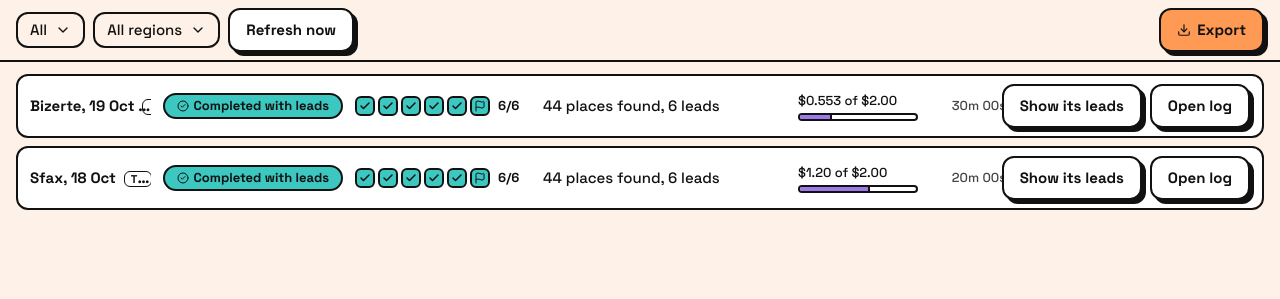
Test: Logs export mode › selects all the runs the filters show, then clears them
expect the text "Bizerte, 19 Oct" is shown: met, box [30,96,134,115]
Click the button "Export": (1212, 30) [1159,8,1264,52]
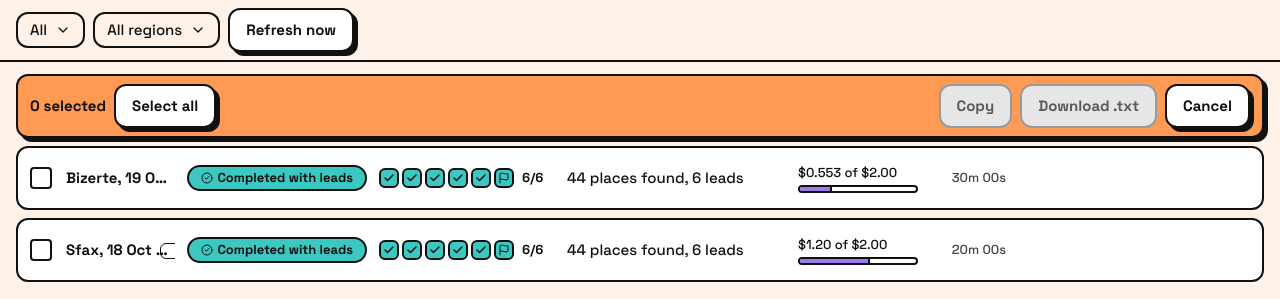
Click the button "Select all": (165, 106) [114,84,216,128]
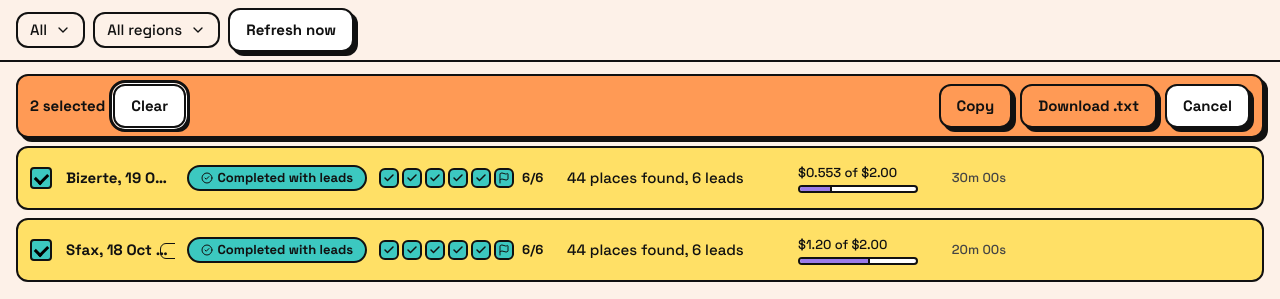
expect the text "2 selected" is shown: met, box [30,95,105,117]
expect the button "Copy" is enabled: met, box [938,84,1012,128]
Click the button "Clear": (150, 106) [113,84,186,128]
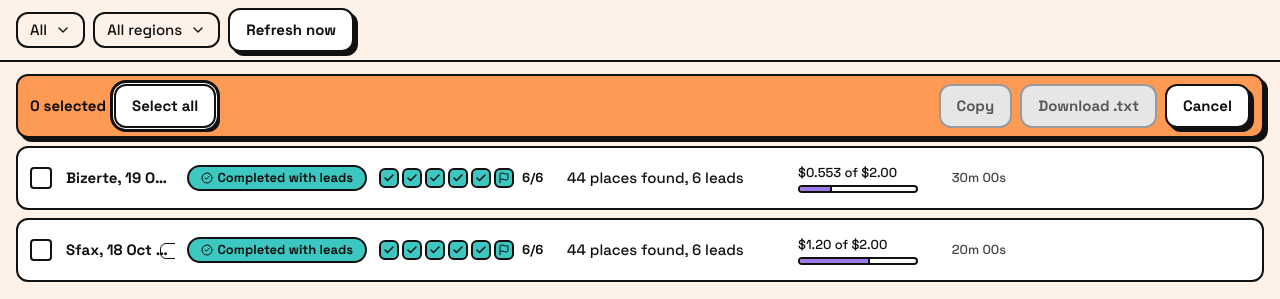
expect the text "0 selected" is shown: met, box [30,95,106,117]
expect the button "Select all" is shown: met, box [114,84,216,128]
